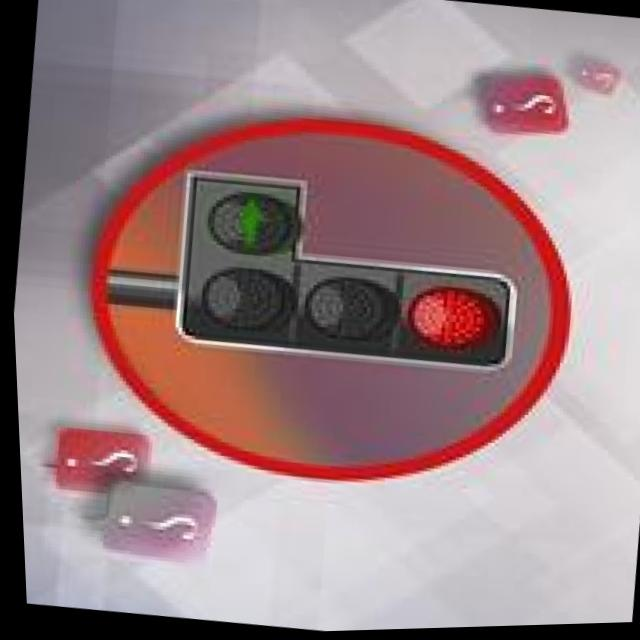red_light: (381, 251, 525, 409)
